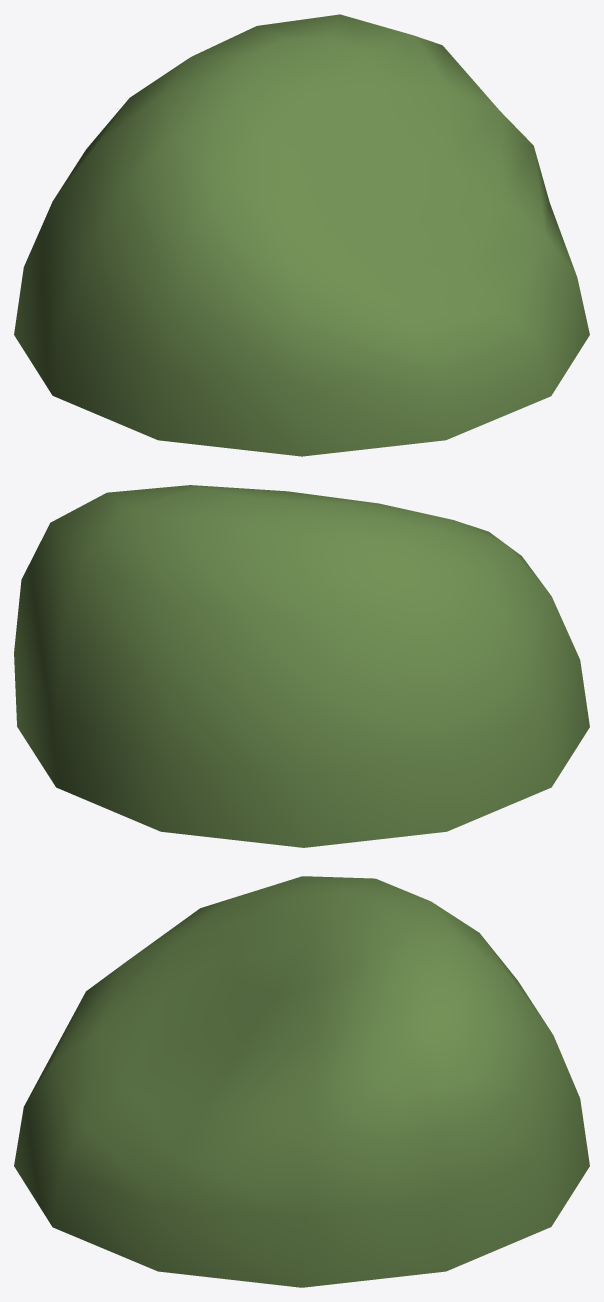
File: Bush_01.fbx
3 renders of one model, top to bottom at view 1: azimuth 30°, elevation 25°; view 2: azimuth 150°, elevation 25°; view 3: azimuth 270°, elevation 25°, orthographic.
Visible parts, largest first — view 1: Bush_01; view 2: Bush_01; view 3: Bush_01.
Boxes of the visible parts, box(x1,y1,x2,y2) form: Bush_01: box(14, 14, 589, 456); Bush_01: box(14, 485, 589, 847); Bush_01: box(14, 876, 589, 1287).
Size of the model in its own units: 152 by 75.14 by 152.
